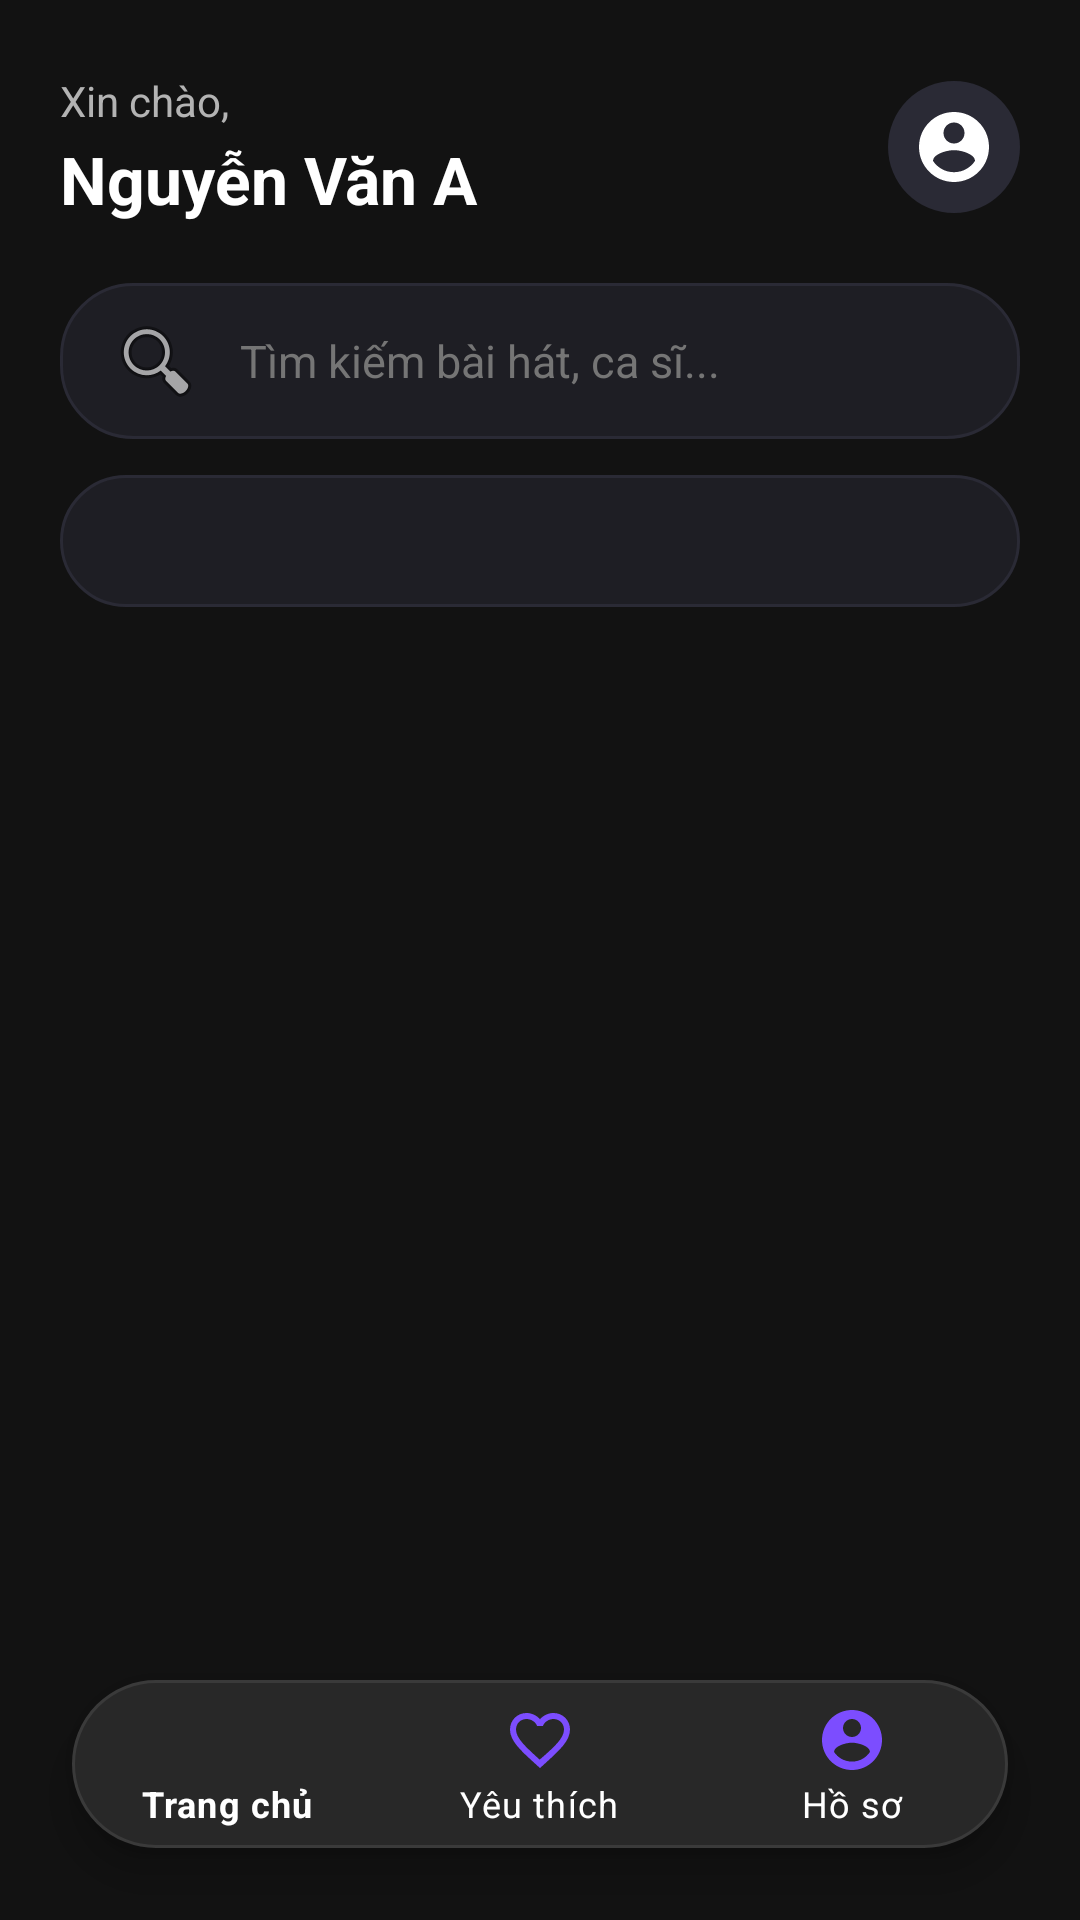

Locate icon controls on the screen. Image size 1080 × 1920, boxes as bbox=(x1, y1, x2, y2).
person: bbox=(888, 81, 1020, 213)
